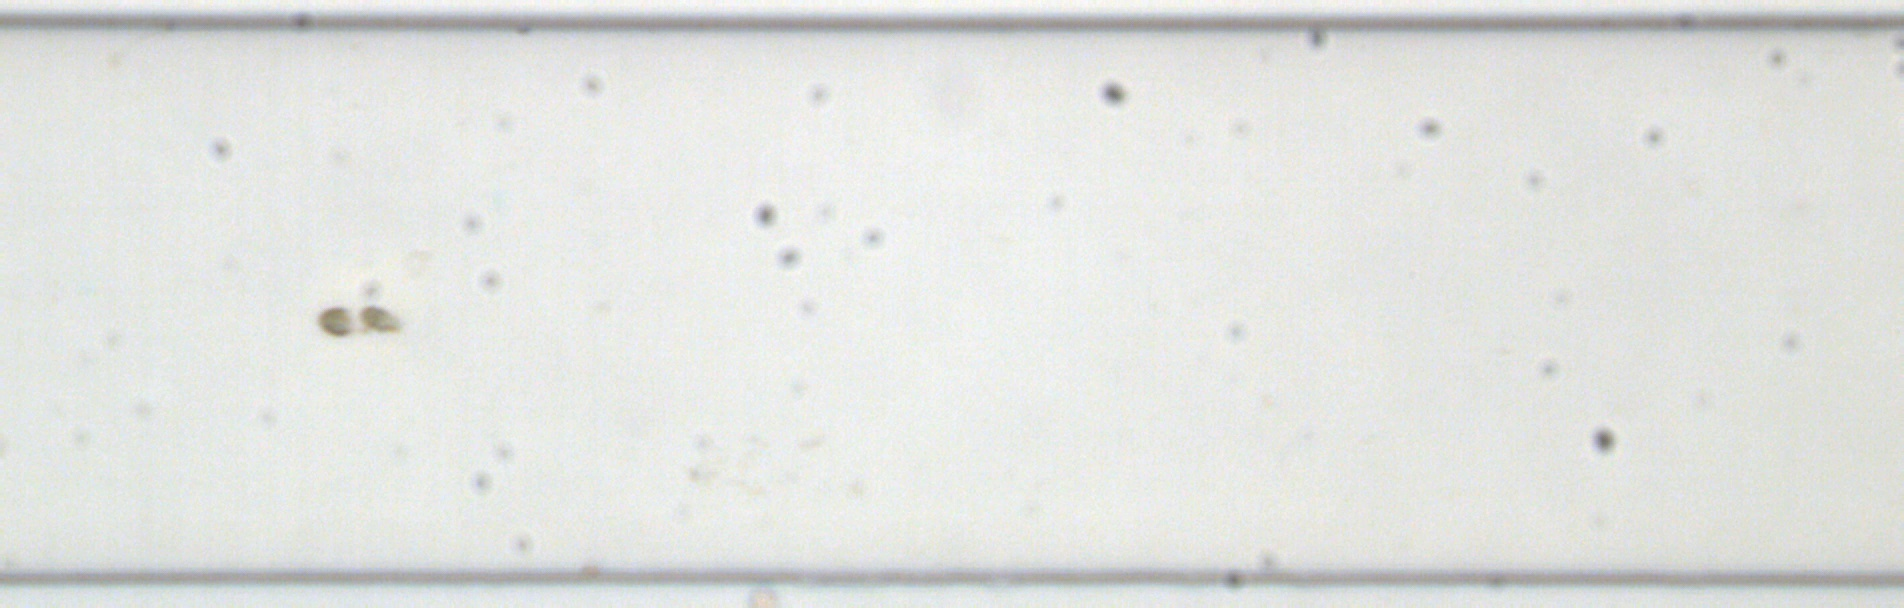Dunaliella salina: (356, 302, 402, 336), (317, 305, 359, 339)
